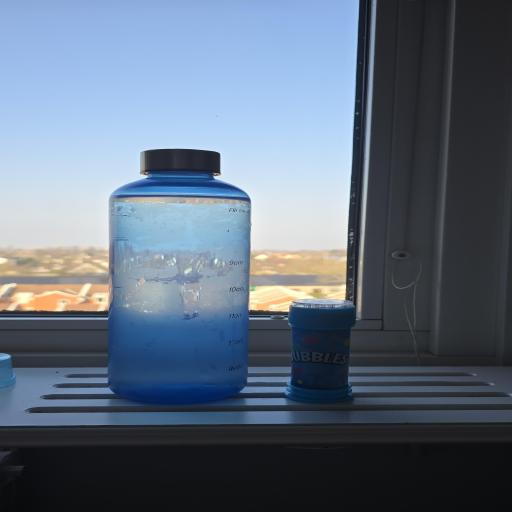bottle: (80, 128, 270, 408)
